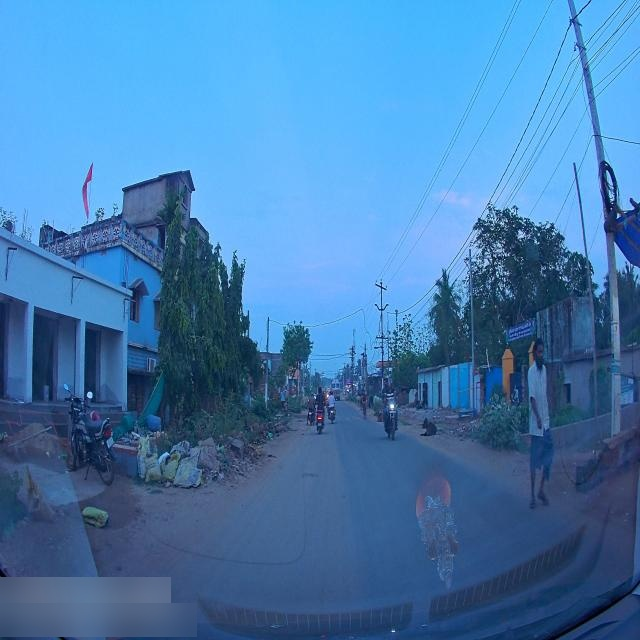pothole: (298, 474, 320, 481)
